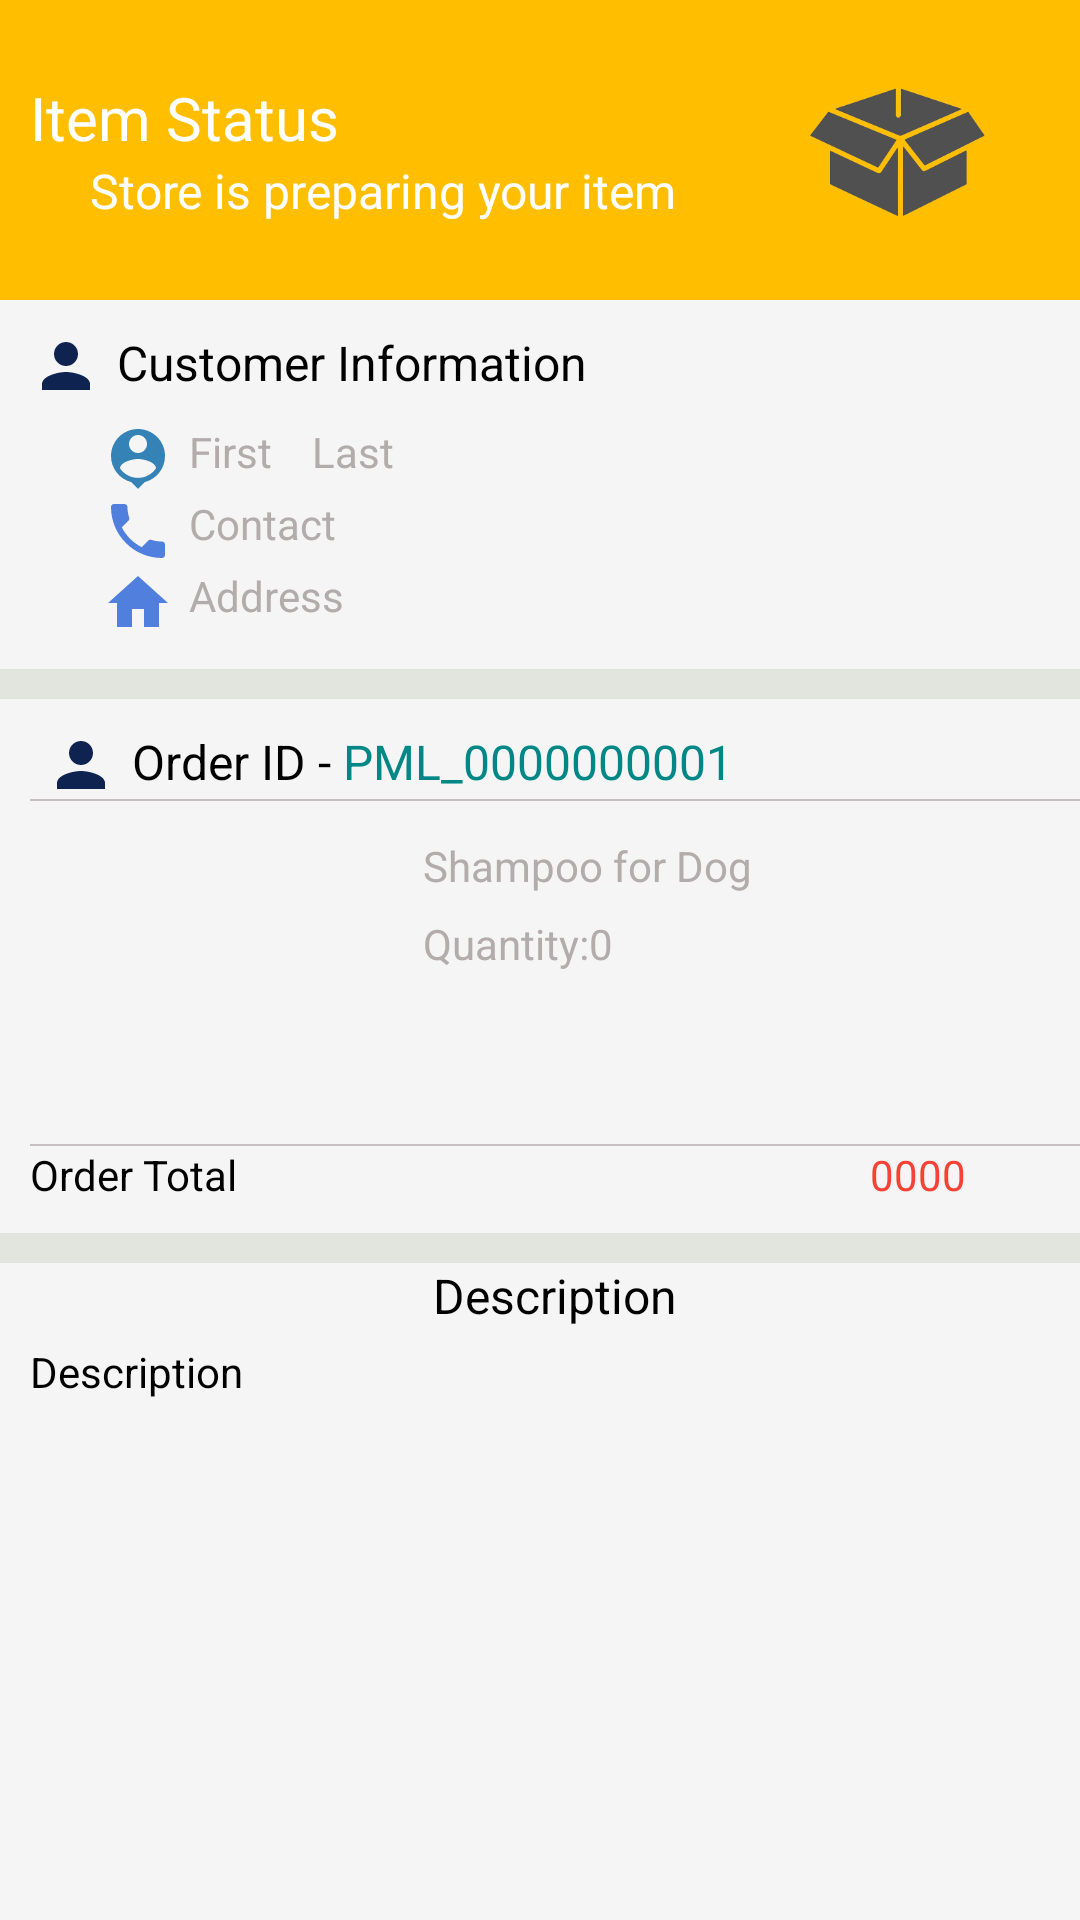

Screen size 1080 × 1920. Icon name, then its center in pixels as point (x, y):
box: point (897, 152)
